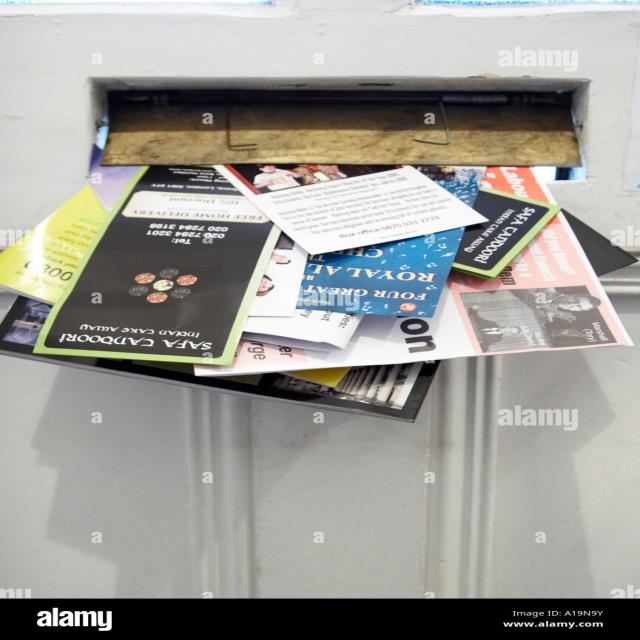paper: (12, 166, 628, 414)
